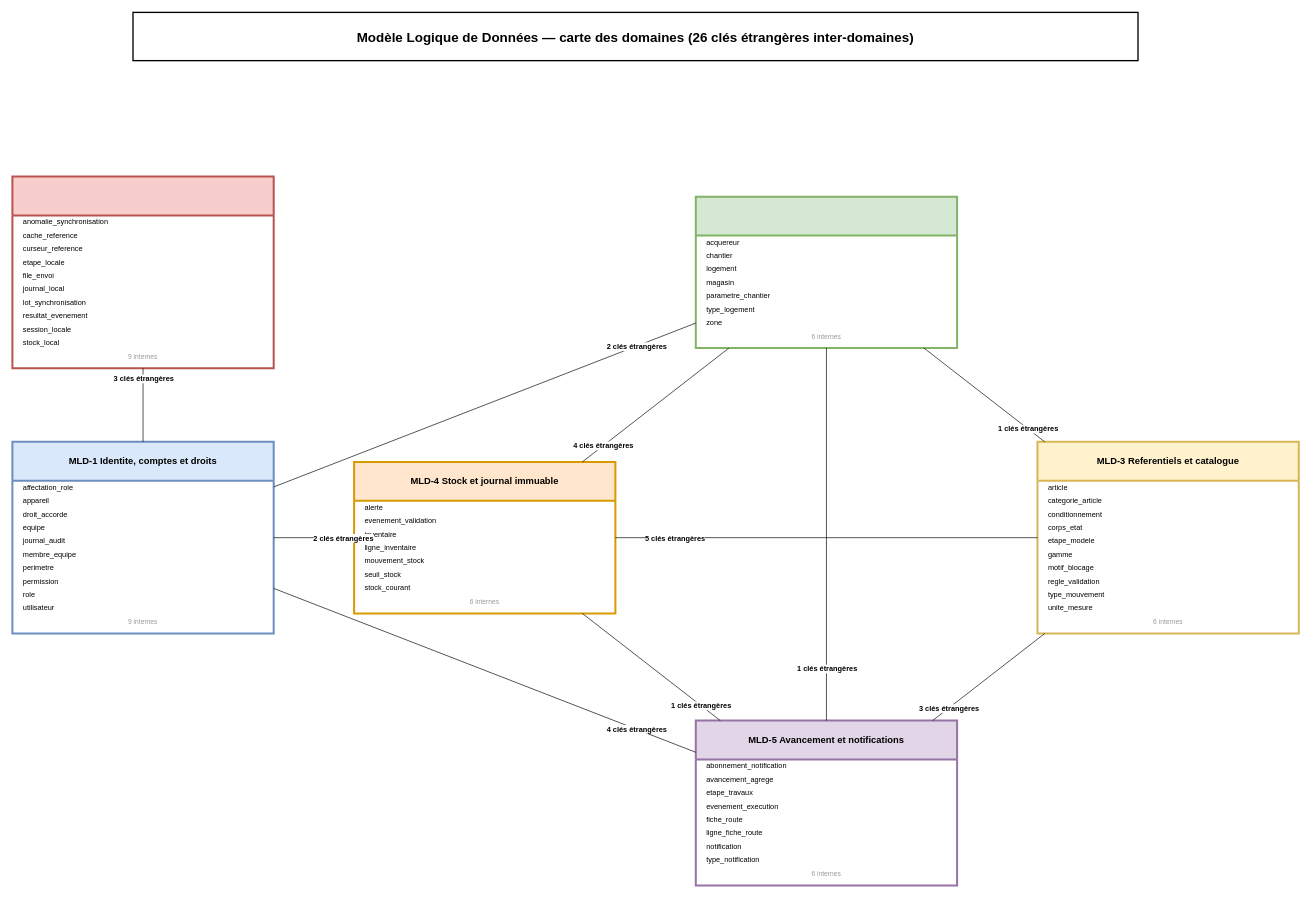
Some shapes in this 1311 by 898 pixel diagram are drawn without their labels. The box of each missing label's shape, as (x1, y1, x2, y2) in pixels:
MLD-2 Organisation du chantier: (694, 195, 958, 349)
MLD-6 Synchronisation et modele local: (11, 175, 274, 369)
